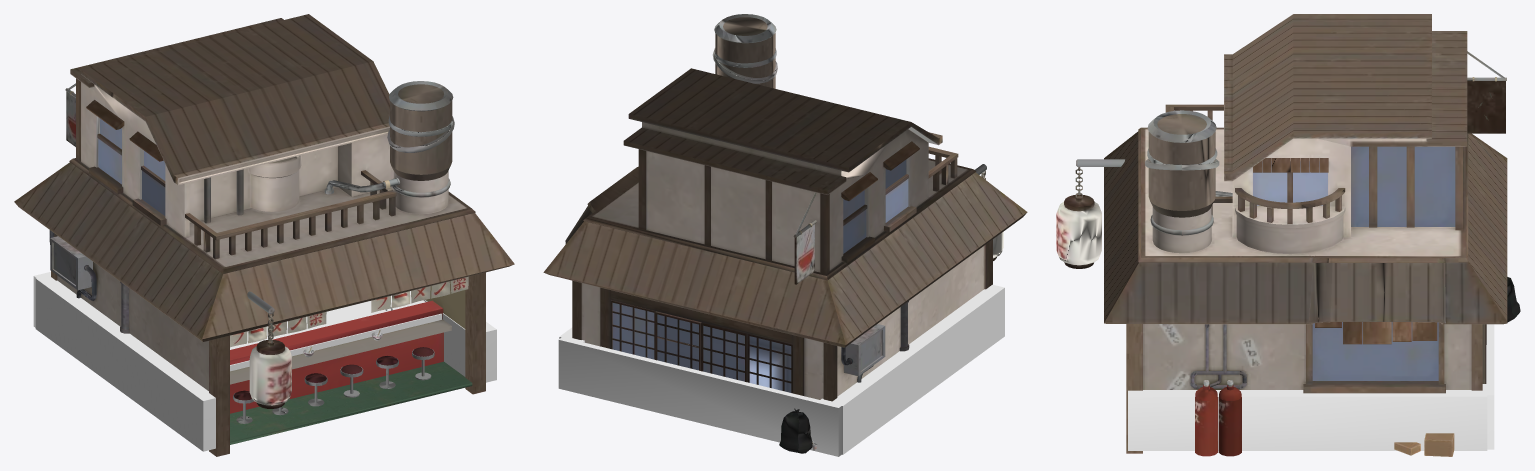
The model's file is ichirakuRamen_mobile.glb.
3 renders of one model, left to right at view 1: azimuth 30°, elevation 25°; view 2: azimuth 150°, elevation 25°; view 3: azimuth 270°, elevation 25°, orthographic. The views are drawn at different scales.
Parts seen in each view (by area): view 1: caja_colision_i; view 2: caja_colision_i; view 3: caja_colision_i.
Boxes of the visible parts, x1,y1,x2,y2 form: caja_colision_i: (14,14,514,456); caja_colision_i: (543,14,1027,456); caja_colision_i: (1056,14,1520,456).
Bounding box in the file's own units: 0.4009 × 0.3433 × 0.4652.
8 materials, 4 textured.
